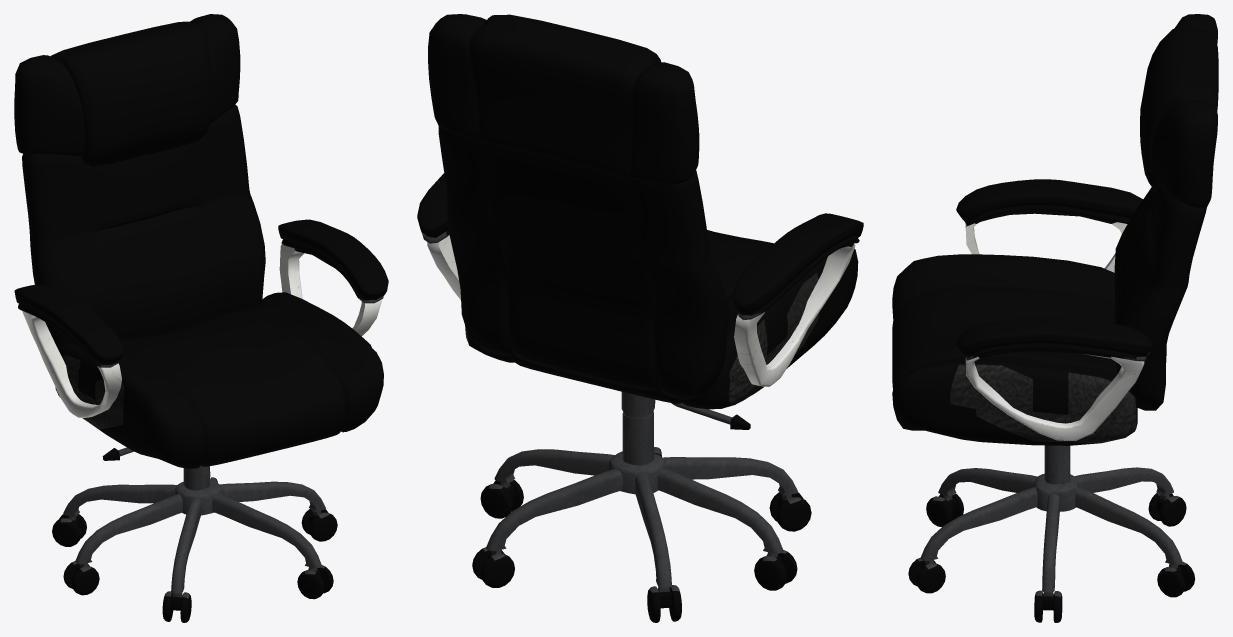
The model's file is Cadeira.fbx.
3 views of the same model, side by side, from view 1: azimuth 30°, elevation 25°; view 2: azimuth 150°, elevation 25°; view 3: azimuth 270°, elevation 25° (orthographic). The views are drawn at different scales.
Visible parts, largest first — view 1: SM_Sandalye_2_0; view 2: SM_Sandalye_2_0; view 3: SM_Sandalye_2_0.
Boxes of the visible parts, left/top/right/bottom form: SM_Sandalye_2_0: left=14, top=14, right=388, bottom=622; SM_Sandalye_2_0: left=417, top=14, right=863, bottom=622; SM_Sandalye_2_0: left=892, top=14, right=1218, bottom=622.
Bounding box in the file's own units: 87.29 × 132 × 78.1.
Materials: 2 (1 with a texture image).
